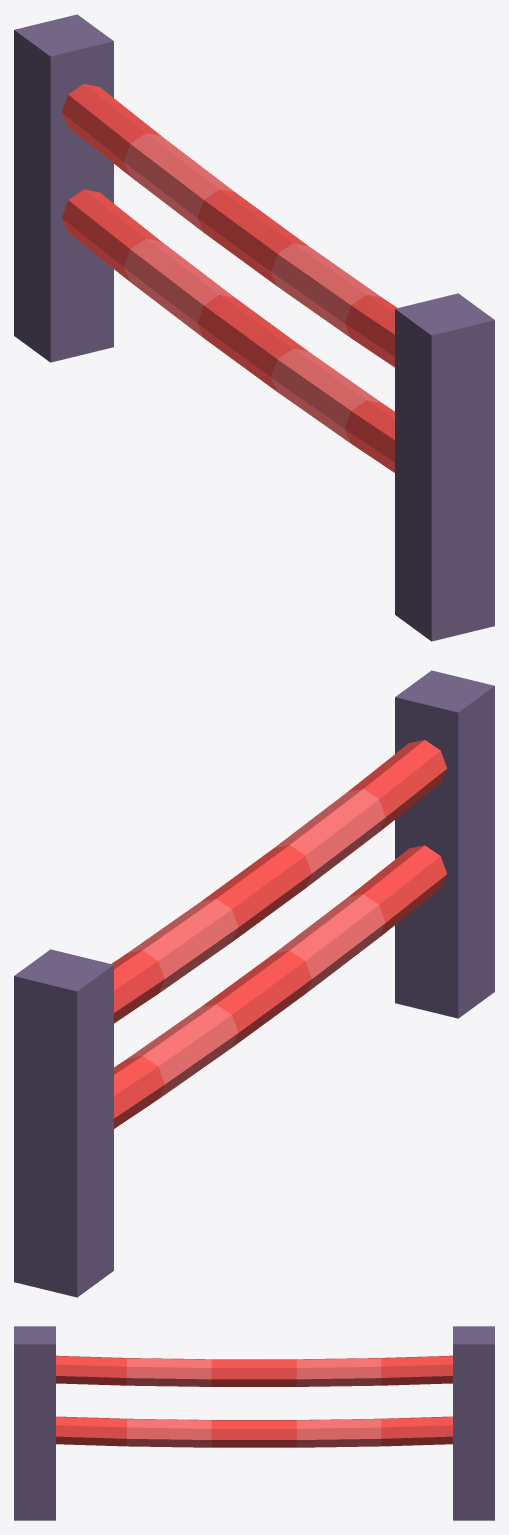
The model's file is Rope fence.FBX.
3 views of the same model, one above another, from view 1: azimuth 30°, elevation 25°; view 2: azimuth 150°, elevation 25°; view 3: azimuth 270°, elevation 25° (orthographic). The views are drawn at different scales.
Parts seen in each view (by area): view 1: Line003; view 2: Line003; view 3: Line003.
Part boxes in pixels (box(x1,y1,x2,y2)): Line003: box(14, 14, 494, 641); Line003: box(14, 670, 494, 1297); Line003: box(14, 1326, 494, 1520).
Bounding box in the file's own units: 19.69 × 90.86 × 225.
1 material, 1 textured.
